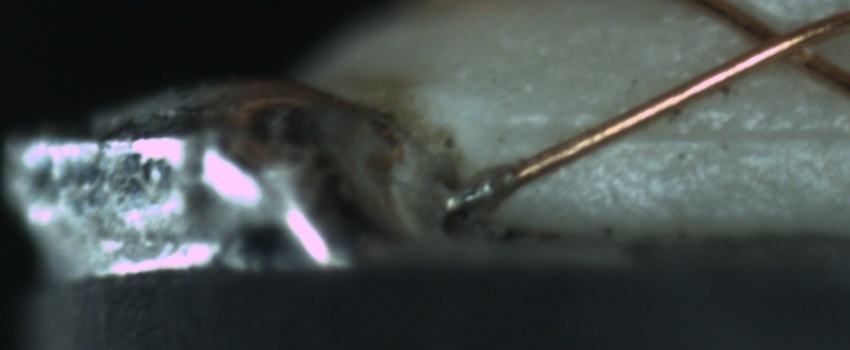CL: (720, 5, 834, 78)
DL: (531, 98, 850, 164)
TS: (443, 170, 512, 216)
TTCW: (440, 158, 525, 214)
